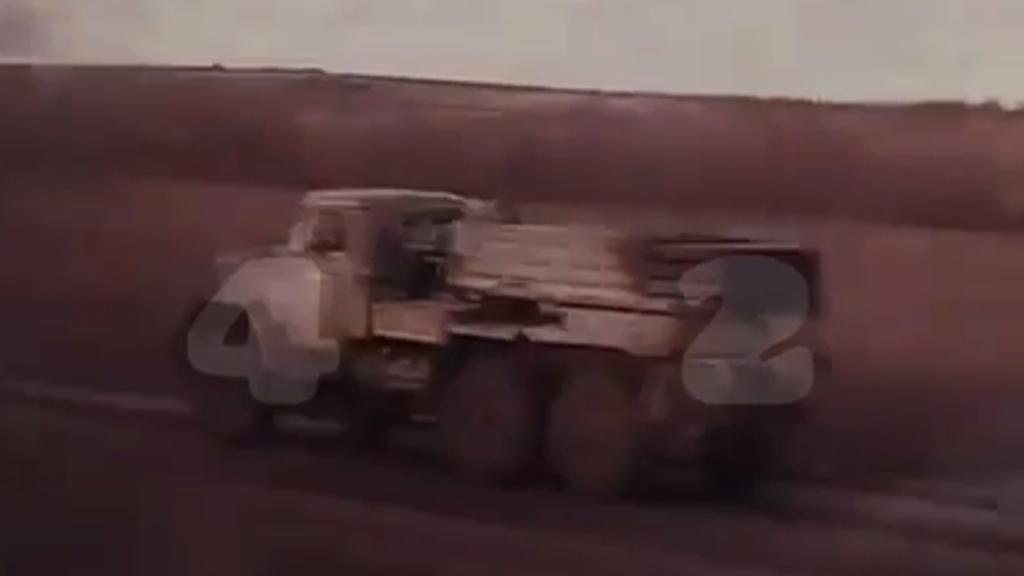MLRS: (200, 177, 832, 503)
